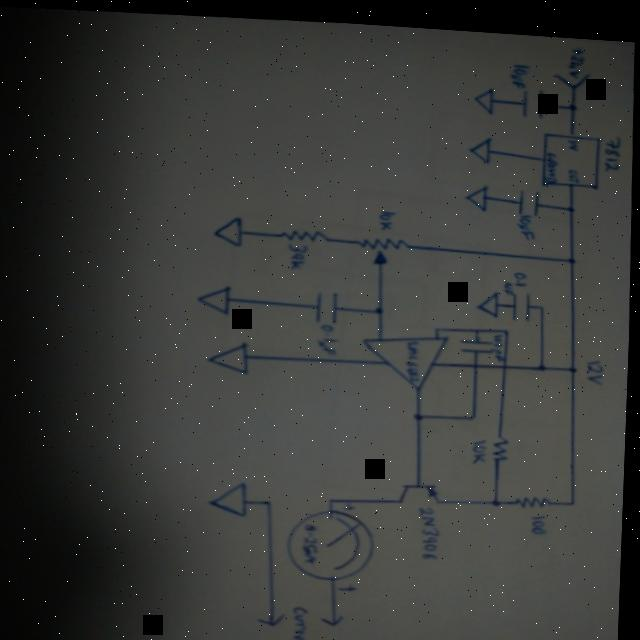capacitor: (314, 285, 341, 318), (519, 79, 545, 112), (516, 180, 541, 208), (512, 283, 533, 315), (461, 330, 495, 348)
crossover: (473, 354, 481, 362), (501, 356, 510, 362)
ground: (209, 475, 252, 514), (208, 335, 252, 373), (197, 279, 235, 312), (212, 210, 245, 244), (468, 128, 493, 156), (465, 176, 490, 204), (477, 283, 502, 311), (473, 79, 494, 106)
junction: (537, 354, 550, 365), (566, 94, 579, 104), (375, 300, 387, 310), (567, 357, 580, 366), (414, 405, 426, 414), (328, 491, 340, 500), (566, 196, 578, 205), (493, 490, 504, 499), (568, 248, 578, 256), (470, 406, 480, 414), (570, 492, 580, 498), (268, 494, 276, 501), (539, 297, 547, 303), (474, 320, 482, 326), (434, 320, 442, 326), (504, 320, 511, 326)
resistor: (357, 229, 412, 261), (280, 222, 330, 241), (515, 487, 555, 503), (494, 427, 512, 455)
terminal: (552, 62, 591, 83), (260, 606, 289, 625), (323, 608, 349, 622)
text: (418, 498, 445, 554), (293, 600, 318, 640), (601, 125, 624, 166), (316, 317, 342, 351), (304, 517, 324, 560), (562, 37, 587, 70), (501, 261, 530, 289), (407, 332, 423, 377), (508, 54, 531, 83), (287, 238, 310, 266), (515, 206, 538, 233), (542, 143, 560, 175), (585, 349, 606, 376), (471, 430, 490, 459), (492, 325, 508, 355), (379, 203, 397, 226), (532, 505, 550, 528), (567, 160, 581, 175), (568, 130, 579, 143)
transistor: (398, 475, 444, 500)
